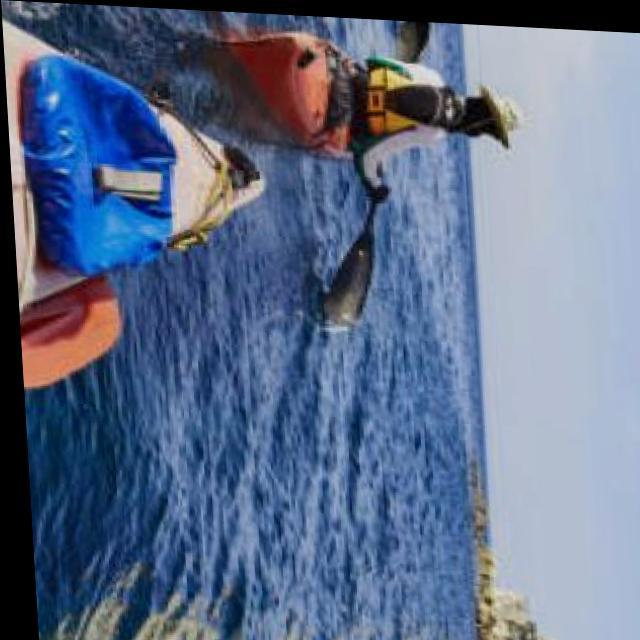kayak: (1, 20, 261, 390), (206, 29, 353, 162)
